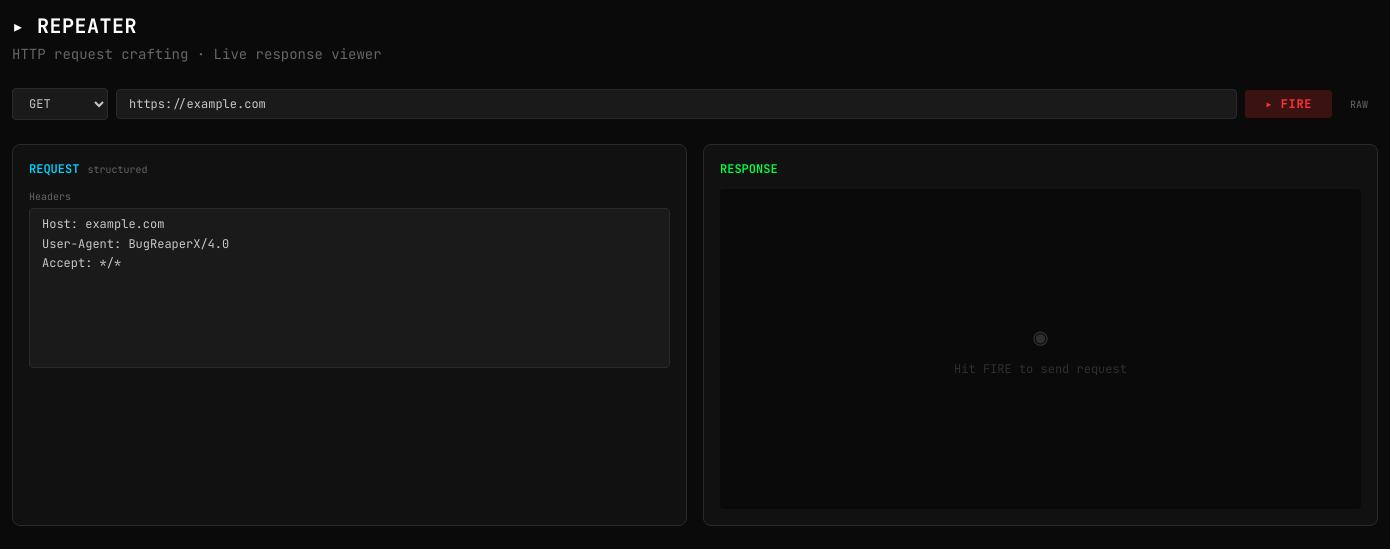
it: RepeaterPage › switches to raw mode when RAW toggle is clicked
Step 1. Click the button "RAW" → [1359, 104], box [1340, 90, 1378, 118]
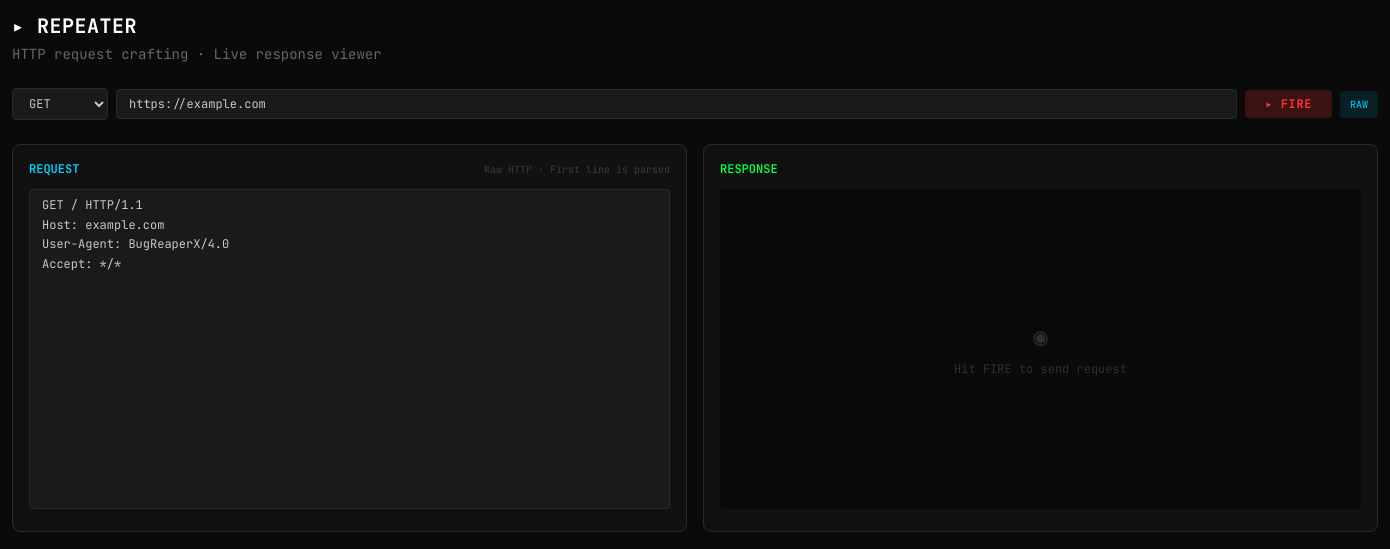
Expected: the text "Raw HTTP · First line is parsed" is shown, [484, 162, 670, 176]
